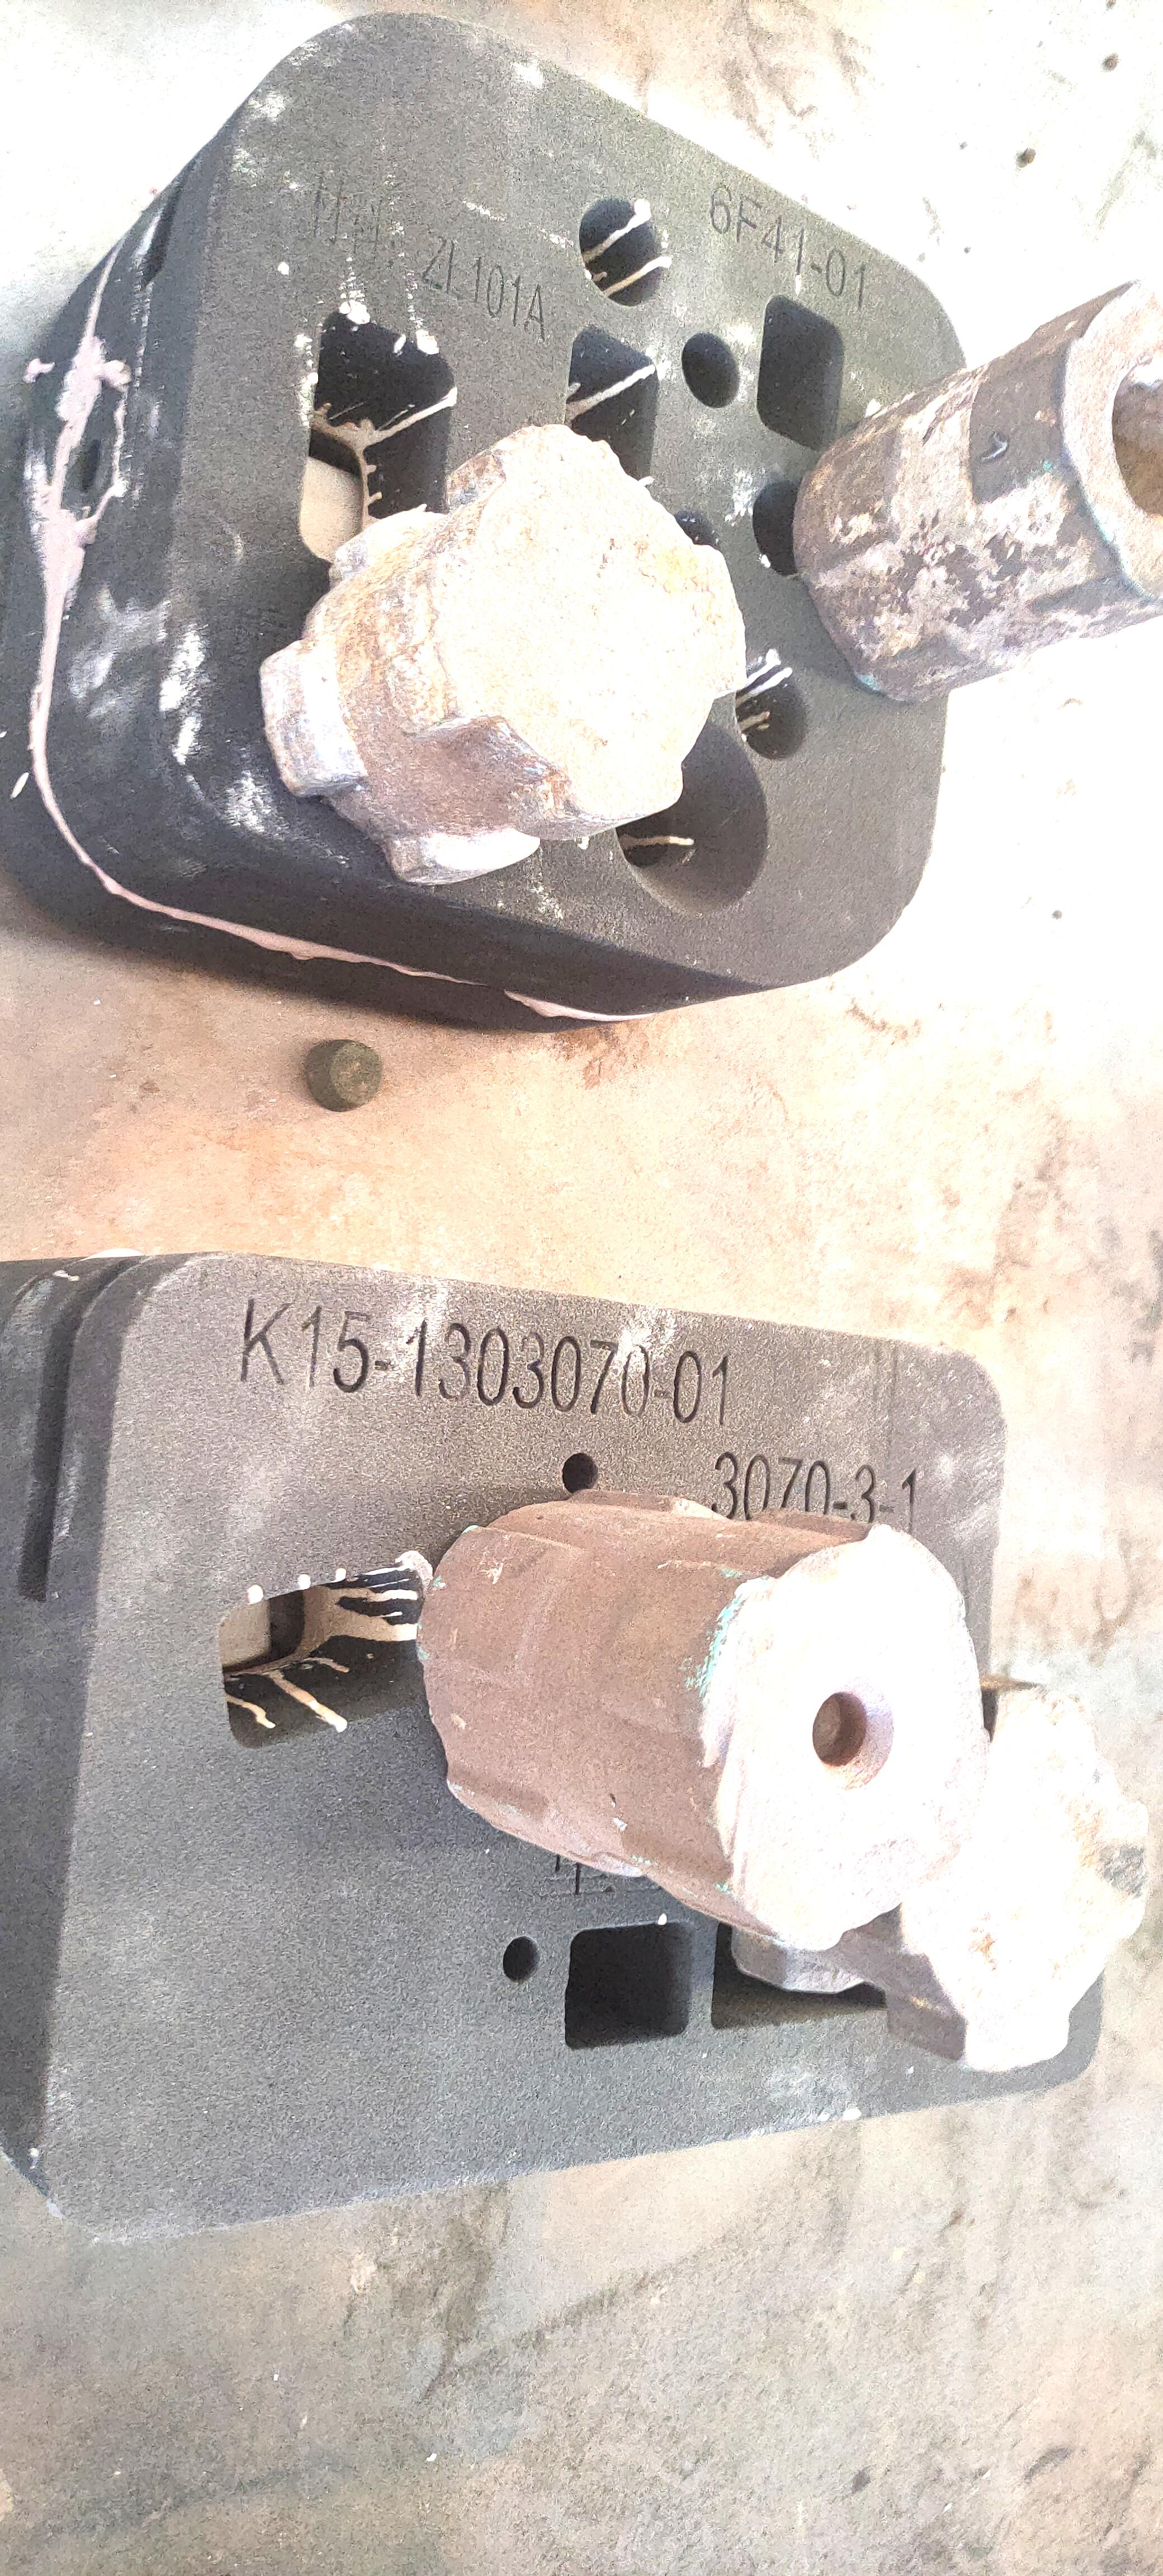pouring hole: (604, 720, 769, 917), (954, 1888, 1092, 2021)
